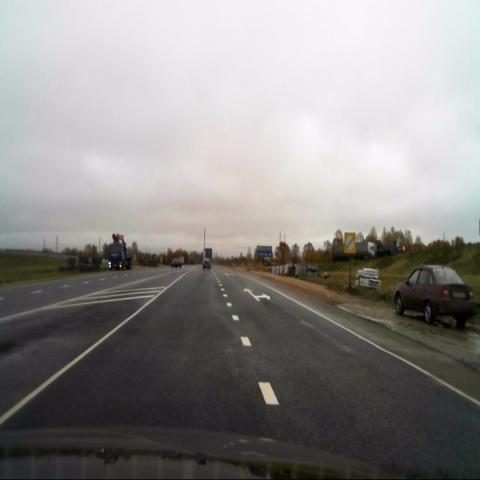3_31: (344, 231, 356, 254)
